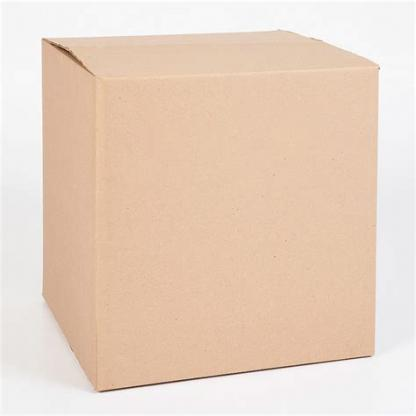box: (40, 28, 380, 393)
